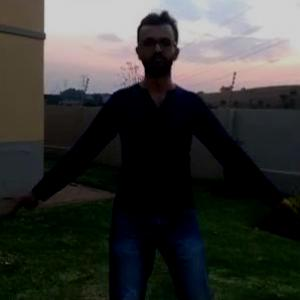land: (26, 18, 287, 286)
